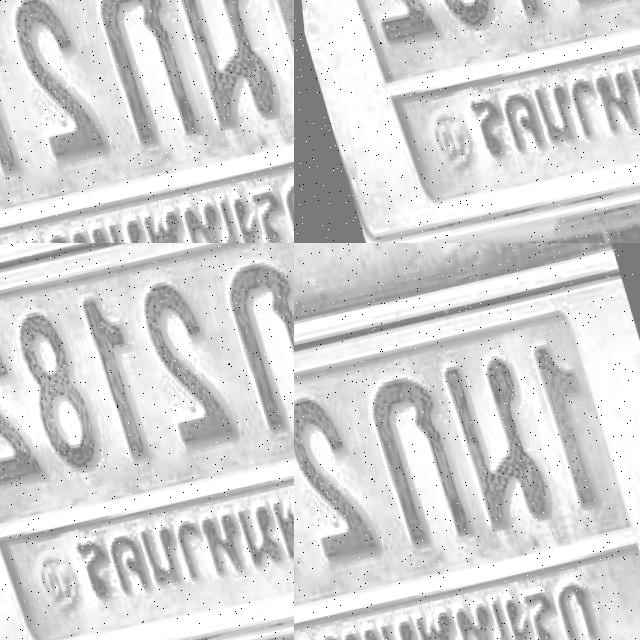license-plate: (294, 243, 640, 640), (0, 243, 294, 640), (0, 0, 294, 181)
